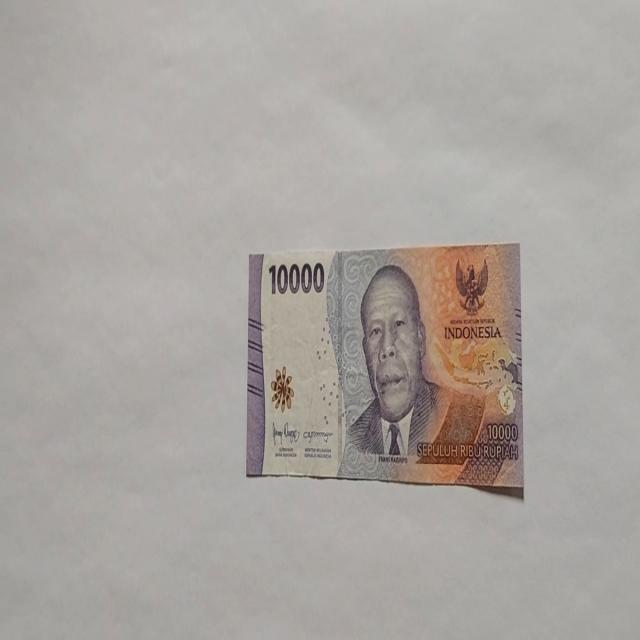sepuluh ribu rupiah: (246, 242, 524, 492)
